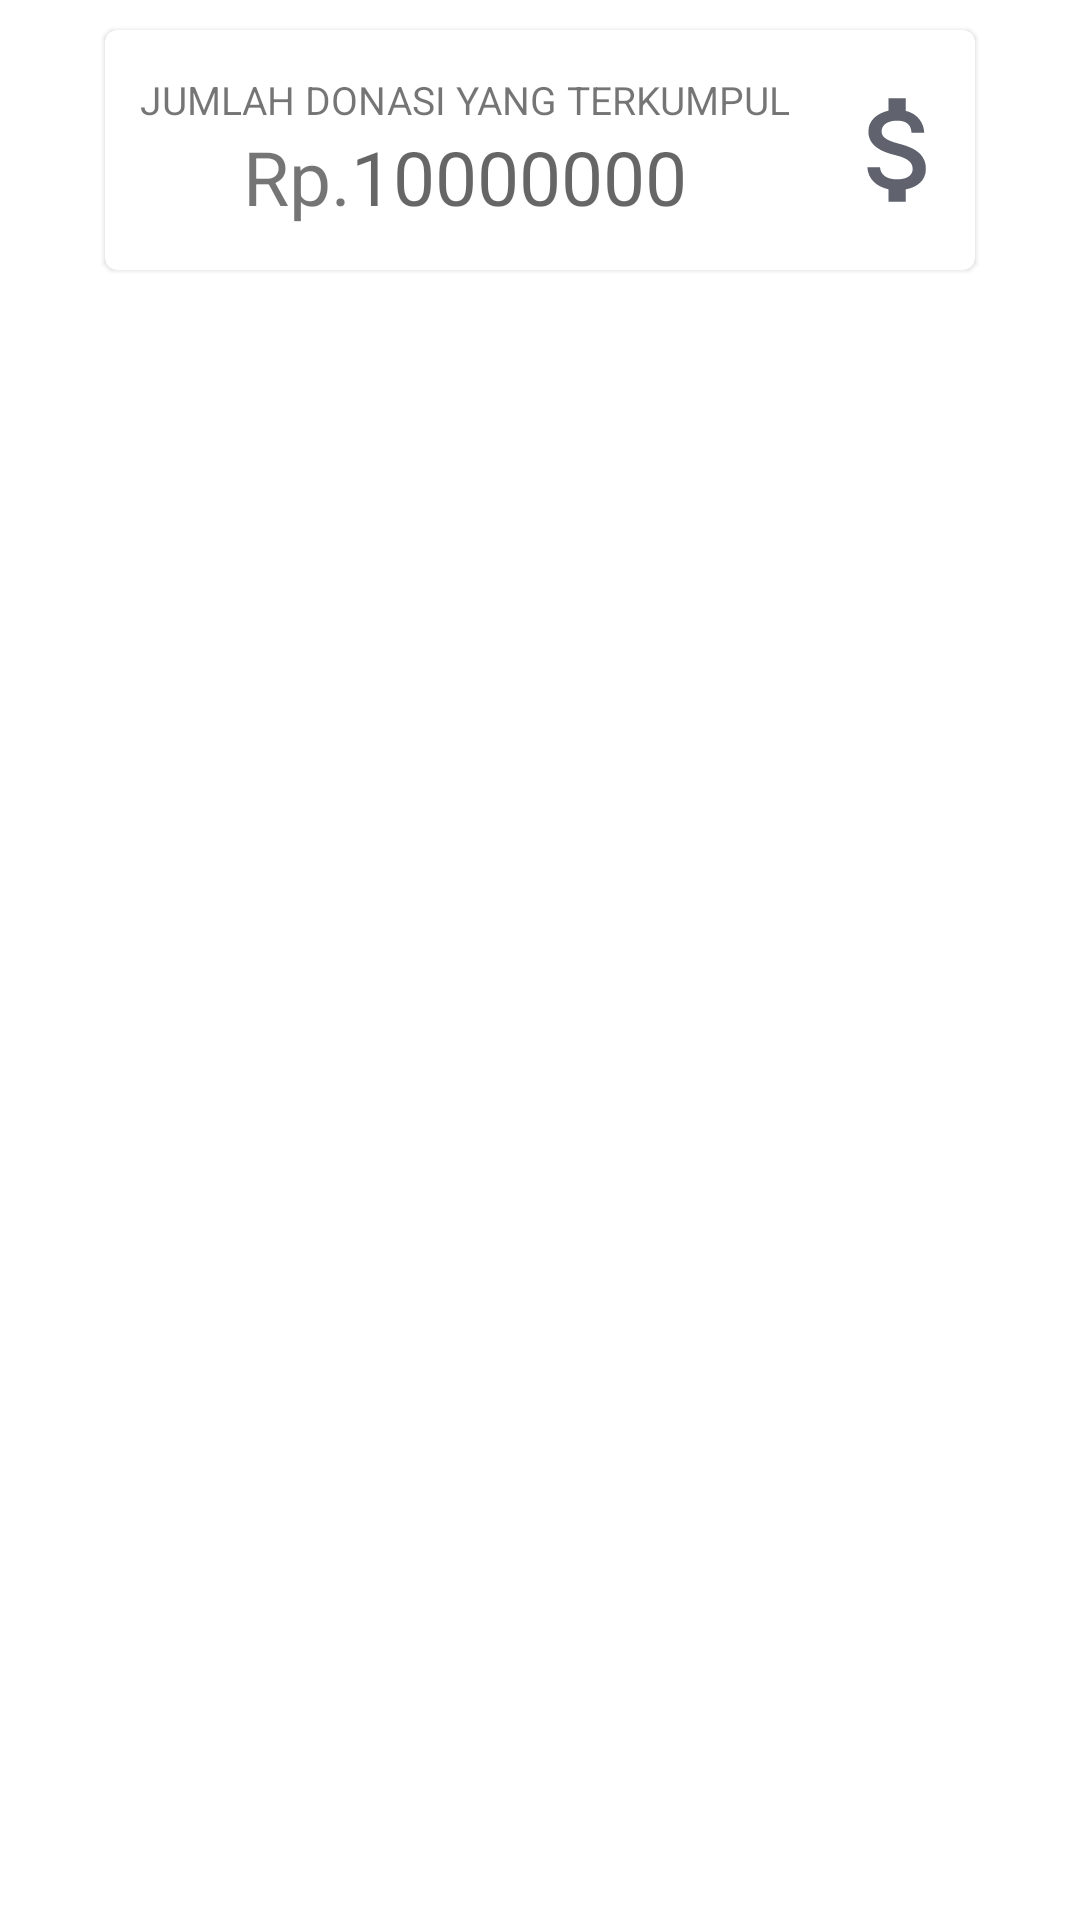

Named icons in this screenshot (1080px x 1920px) and their bounding boxes, [left=x1, top=y1, right=x2, bottom=y2]:
total donasi: [left=867, top=98, right=926, bottom=202]
